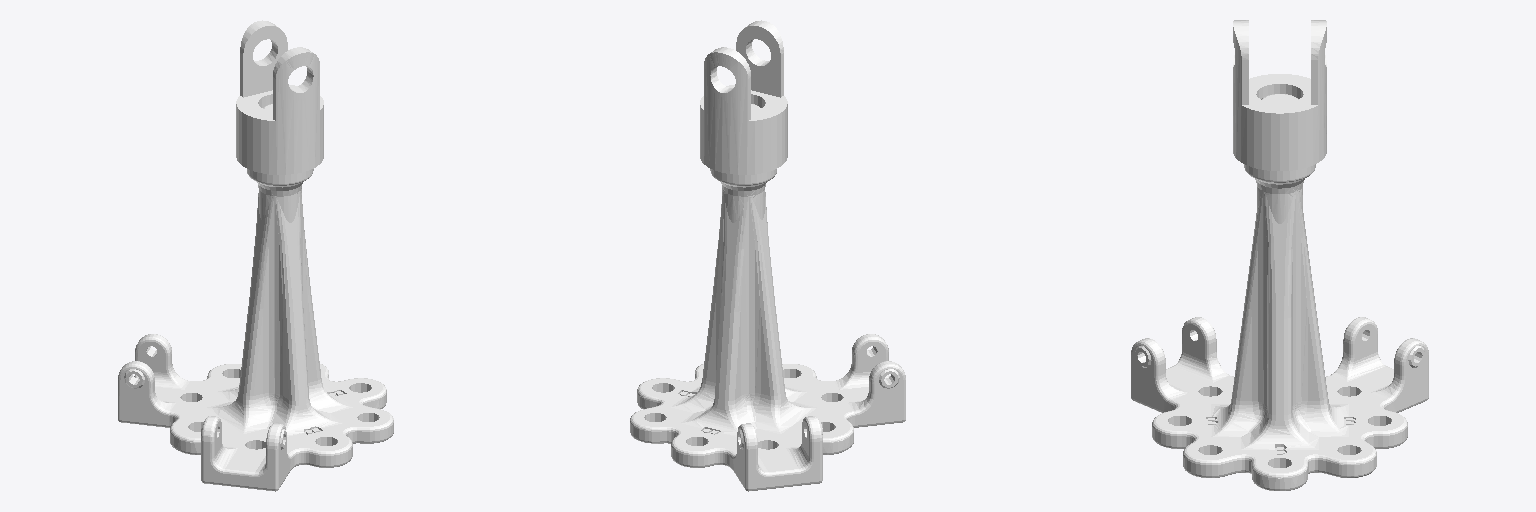
robot.urdf — aubo_i5:
<?xml version="1.0"?>
<robot  name="aubo_i5">

  <link name="base_link">
    <inertial>
      <origin xyz="-1.4795E-13 0.0015384 0.020951" rpy="0 0 0" />
      <mass value="0.83419" />
      <inertia ixx="0.0014414" ixy="7.8809E-15" ixz="8.5328E-16" iyy="0.0013542" iyz="-1.4364E-05" izz="0.0024659" />
    </inertial>
    <visual>
      <origin xyz="0 0 0" rpy="0 0 0" />
      <geometry>
        <mesh filename="base_link.STL" />
      </geometry>
      <material name="">
        <color rgba="1 1 1 1" />
      </material>
    </visual>
    <collision>
      <origin xyz="0 0 0" rpy="0 0 0" />
      <geometry>
        <mesh filename="base_link.STL" />
      </geometry>
    </collision>
  </link>

  <link name="shoulder_Link">
    <inertial>
      <origin xyz="3.2508868974735E-07 0.00534955349296065 -0.00883689325611056" rpy="0 0 0" />
      <mass value="1.57658348693929" />
      <inertia ixx="0.0040640448663128" ixy="0" ixz="0" iyy="0.00392863238466817" iyz="-0.000160151642851425" izz="0.0030869857349184" />
    </inertial>
    <visual>
      <origin xyz="0 0 0" rpy="0 0 0" />
      <geometry>
        <mesh filename="shoulder_Link.STL" />
      </geometry>
      <material name="">
        <color rgba="1 1 1 1" />
      </material>
    </visual>
    <collision>
      <origin xyz="0 0 0" rpy="0 0 0" />
      <geometry>
        <mesh filename="shoulder_Link.STL" />
      </geometry>
    </collision>
  </link>

  <joint name="shoulder_joint" type="revolute">
    <origin xyz="0 0 0.122" rpy="0 0 3.1416" />
    <parent link="base_link" />
    <child link="shoulder_Link" />
    <axis xyz="0 0 1" />
    <limit lower="-3.05" upper="3.05" effort="0" velocity="0" />
  </joint>

  <link name="upperArm_Link">
    <inertial>
      <origin xyz="0.203996646979614 2.01304585036544E-10 0.0127641545395984" rpy="0 0 0" />
      <mass value="4.04175782265494" />
      <inertia ixx="0.00965399211106204" ixy="0" ixz="0" iyy="0.144993869035655" iyz="0" izz="0.142607184038966" />
    </inertial>
    <visual>
      <origin xyz="0 0 0" rpy="0 0 0" />
      <geometry>
        <mesh filename="upperArm_Link.STL" />
      </geometry>
      <material name="">
        <color rgba="1 1 1 1" />
      </material>
    </visual>
    <collision>
      <origin xyz="0 0 0" rpy="0 0 0" />
      <geometry>
        <mesh filename="upperArm_Link.STL" />
      </geometry>
    </collision>
  </link>

  <joint name="upperArm_joint" type="revolute">
    <origin xyz="0 0.1215 0" rpy="-1.5708 -1.5708 0" />
    <parent link="shoulder_Link" />
    <child link="upperArm_Link" />
    <axis xyz="0 0 1" />
    <limit lower="-3.05" upper="3.05" effort="0" velocity="0" />
  </joint>

  <link name="foreArm_Link">
    <inertial>
      <origin xyz="0.188922115560337 6.78882434739072E-07 0.0981026740461557" rpy="0 0 0" />
      <mass  value="2.27145669098343" />
      <inertia ixx="0.00214322284946289" ixy="0" ixz="-0.00073120631553383" iyy="0.0443926090878205" iyz="0" izz="0.0441273797128365" />
    </inertial>
    <visual>
      <origin xyz="0 0 0" rpy="0 0 0" />
      <geometry>
        <mesh filename="foreArm_Link.STL" />
      </geometry>
      <material name="">
        <color rgba="1 1 1 1" />
      </material>
    </visual>
    <collision>
      <origin xyz="0 0 0" rpy="0 0 0" />
      <geometry>
        <mesh filename="foreArm_Link.STL" />
      </geometry>
    </collision>
  </link>

  <joint name="foreArm_joint" type="revolute">
    <origin xyz="0.408 0 0" rpy="-3.1416 -5.1632E-18 -5.459E-16" />
    <parent link="upperArm_Link" />
    <child link="foreArm_Link" />
    <axis xyz="0 0 1" />
    <limit lower="-3.05" upper="3.05" effort="0" velocity="0" />
  </joint>

  <link name="wrist1_Link">
    <inertial>
      <origin xyz="7.54205137428592E-07 0.0062481254331257 -0.00392367464072373" rpy="0 0 0" />
      <mass value="0.500477539188764" />
      <inertia ixx="0.00071194605962081" ixy="0" ixz="0" iyy="0.00040588242872958" iyz="-2.30808694377512E-05" izz="0.000685574004861334" />
    </inertial>
    <visual>
      <origin xyz="0 0 0" rpy="0 0 0" />
      <geometry>
        <mesh filename="wrist1_Link.STL" />
      </geometry>
      <material name="">
        <color rgba="1 1 1 1" />
      </material>
    </visual>
    <collision>
      <origin xyz="0 0 0" rpy="0 0 0" />
      <geometry>
        <mesh filename="wrist1_Link.STL" />
      </geometry>
    </collision>
  </link>

  <joint name="wrist1_joint" type="revolute">
    <origin xyz="0.376 0 0" rpy="3.1416 -1.8323E-15 1.5708" />
    <parent link="foreArm_Link" />
    <child link="wrist1_Link" />
    <axis xyz="0 0 1" />
    <limit lower="-3.05" upper="3.05" effort="0" velocity="0" />
  </joint>

  <link name="wrist2_Link">
    <inertial>
      <origin xyz="-7.54207620578635E-07 -0.00624812542617262 -0.00392367464115684" rpy="0 0 0" />
      <mass value="0.500477539245988" />
      <inertia ixx="0.00071194605981829" ixy="0" ixz="0" iyy="0.000405882428755442" iyz="2.30808694515886E-05" izz="0.000685574005112107" />
    </inertial>
    <visual>
      <origin xyz="0 0 0" rpy="0 0 0" />
      <geometry>
        <mesh filename="wrist2_Link.STL" />
      </geometry>
      <material name="">
        <color rgba="1 1 1 1" />
      </material>
    </visual>
    <collision>
      <origin xyz="0 0 0" rpy="0 0 0" />
      <geometry>
        <mesh filename="wrist2_Link.STL" />
      </geometry>
    </collision>
  </link>

  <joint name="wrist2_joint" type="revolute">
    <origin xyz="0 0.1025 0" rpy="-1.5708 -1.8709E-15 -1.6653E-16" />
    <parent link="wrist1_Link" />
    <child link="wrist2_Link" />
    <axis xyz="0 0 1" />
    <limit lower="-3.05" upper="3.05" effort="0" velocity="0" />
  </joint>

  <link name="wrist3_Link">
    <inertial>
      <origin xyz="3.92048778449938E-10 0.000175788057281467 -0.0213294490706684" rpy="0 0 0" />
      <mass value="0.158309554874285" />
      <inertia ixx="7.31376196034769E-05" ixy="0" ixz="0" iyy="7.19528188876563E-05" iyz="0" izz="0.000108772439051422" />
    </inertial>
    <visual>
      <origin xyz="0 0 0" rpy="0 0 0" />
      <geometry>
        <mesh filename="wrist3_Link.STL" />
      </geometry>
      <material name="">
        <color rgba="1 1 1 1" />
      </material>
    </visual>
    <collision>
      <origin xyz="0 0 0" rpy="0 0 0" />
      <geometry>
        <mesh filename="wrist3_Link.STL" />
      </geometry>
    </collision>
  </link>

  <joint name="wrist3_joint" type="revolute">
    <origin xyz="0 -0.094 0" rpy="1.5708 0 1.7907E-15" />
    <parent link="wrist2_Link" />
    <child link="wrist3_Link" />
    <axis xyz="0 0 1" />
    <limit lower="-3.05" upper="3.05" effort="0" velocity="0" />
  </joint>

  <link name="world" />

  <joint name="world_joint" type="fixed">
    <parent link="world" />
    <child link = "base_link" />
    <origin xyz="0.0 0.0 0.0" rpy="0.0 0.0 0.0" />
  </joint>
</robot>

--- Facts derived from the render (not from the file) ---
Views: 3 orthographic renders of the robot side by side, from view 1: azimuth 30°, elevation 25°; view 2: azimuth 150°, elevation 25°; view 3: azimuth 270°, elevation 25°.
Robot: aubo_i5 — 8 links, 7 joints (6 revolute, 1 fixed); root link world; default pose: all joints at 0.
Links seen in each view (by area): view 1: base_link; view 2: base_link; view 3: base_link.
Link boxes in pixels (x1,y1,x2,y2): base_link: [118, 20, 393, 491]; base_link: [630, 20, 905, 491]; base_link: [1131, 20, 1428, 490].
Size in the robot's own frame: 0.0705 by 0.0757 by 0.1166 metres.
1 mesh visuals loaded from 7 distinct referenced files (1 binary STL); not drawn: 6 (reference not matched to a file when rendering).